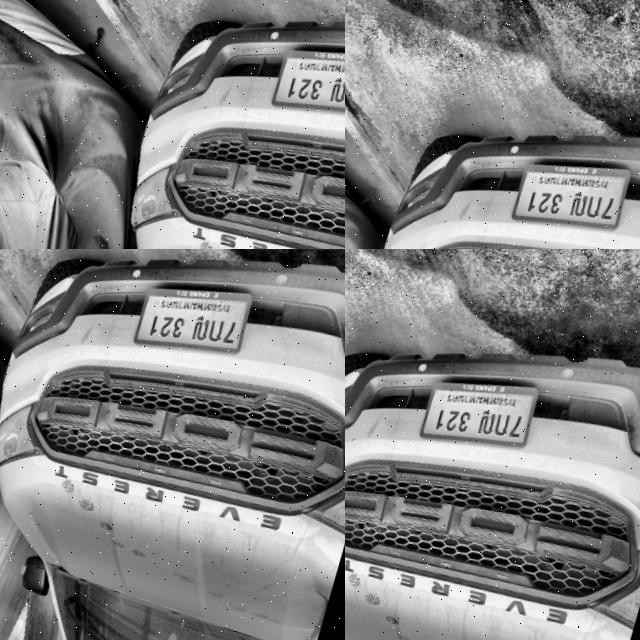license-plate: (415, 346, 545, 459)
